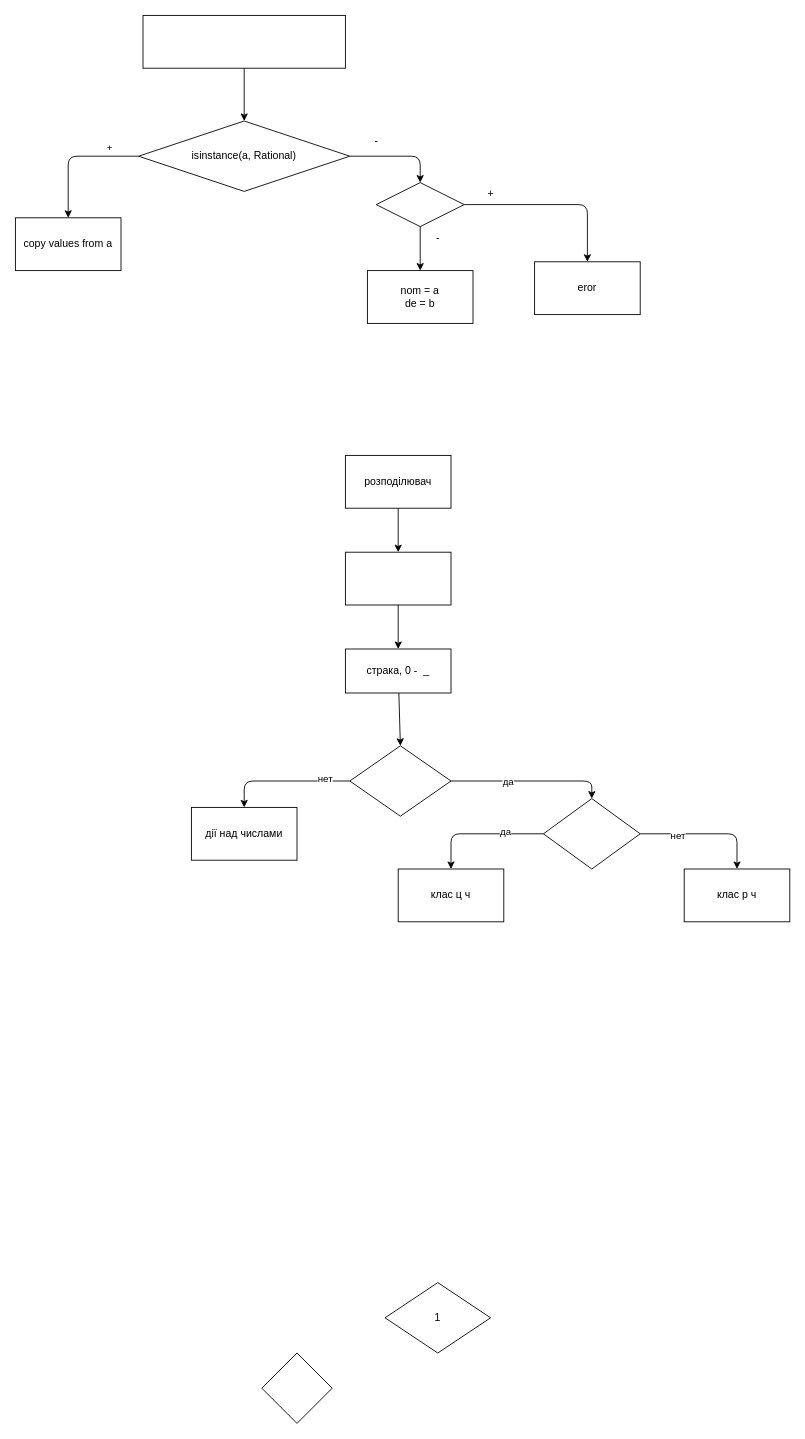
This 805x1439 diagram has some shape labels left out. The shapes that lost their labels are listed below. From the top down, each one's centre as x and y in pixels, then its label:
the point at 243,41: a, b =0
the point at 419,204: b == 0?
the point at 398,578: файл
the point at 400,780: число?
the point at 591,833: ціле?
